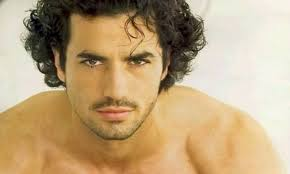Indian_Male: (50, 22, 160, 131)
